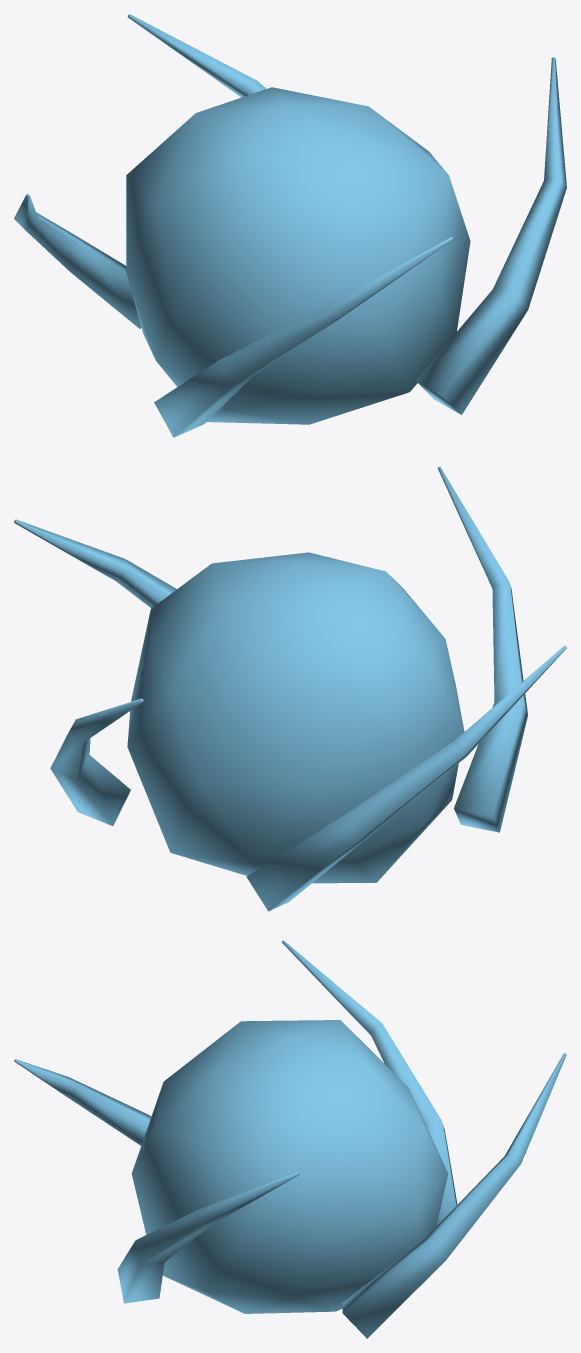
Rendered from soul_of_flight.glb.
3 views of the same model, one above another, from view 1: azimuth 30°, elevation 25°; view 2: azimuth 150°, elevation 25°; view 3: azimuth 270°, elevation 25° (orthographic). The views are drawn at different scales.
Parts seen in each view (by area): view 1: soul_of_flight_v0; view 2: soul_of_flight_v0; view 3: soul_of_flight_v0.
Boxes of the visible parts, x1,y1,x2,y2 form: soul_of_flight_v0: (14,14,566,437); soul_of_flight_v0: (14,466,566,911); soul_of_flight_v0: (14,940,566,1338).
Bounding box in the file's own units: 0.3016 × 0.1622 × 0.3016.
